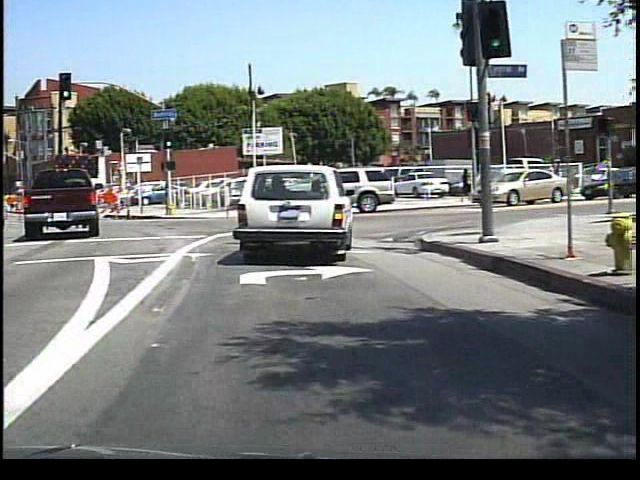person: (455, 164, 471, 205)
